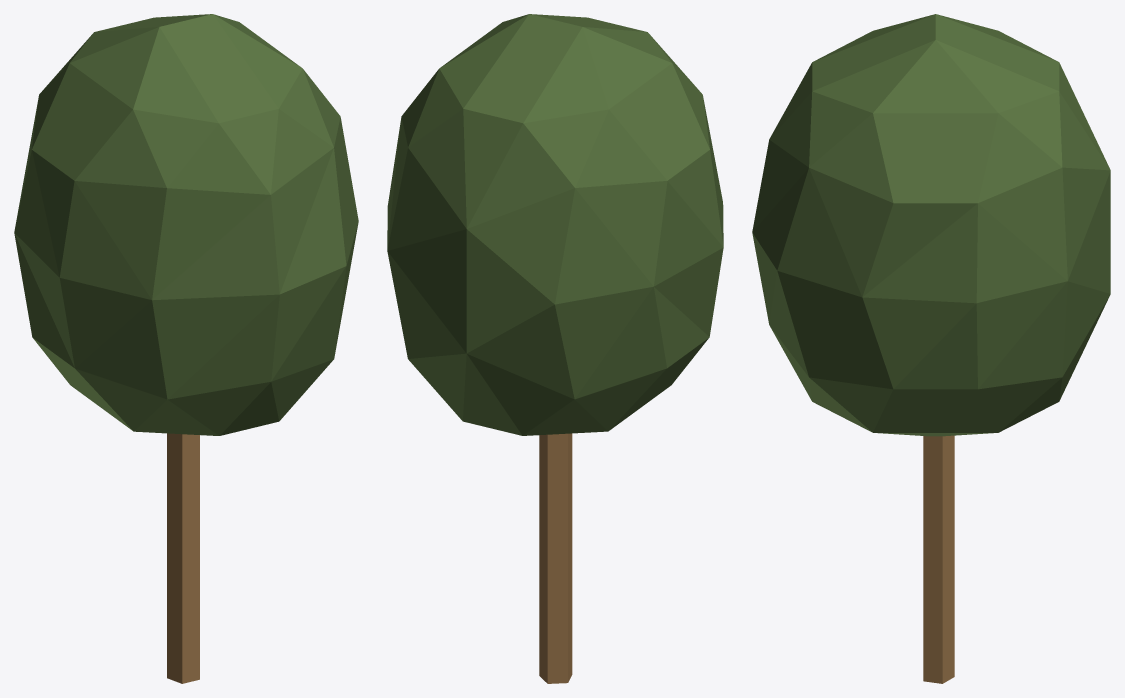
File: tree_06.fbx
3 views of the same model, side by side, from view 1: azimuth 30°, elevation 25°; view 2: azimuth 150°, elevation 25°; view 3: azimuth 270°, elevation 25° (orthographic).
Parts seen in each view (by area): view 1: tree_06; view 2: tree_06; view 3: tree_06.
Part boxes in pixels (x1,y1,x2,y2): tree_06: (14, 14, 358, 683); tree_06: (387, 14, 723, 683); tree_06: (752, 14, 1110, 683).
Bounding box in the file's own units: 249 × 529 × 264.
